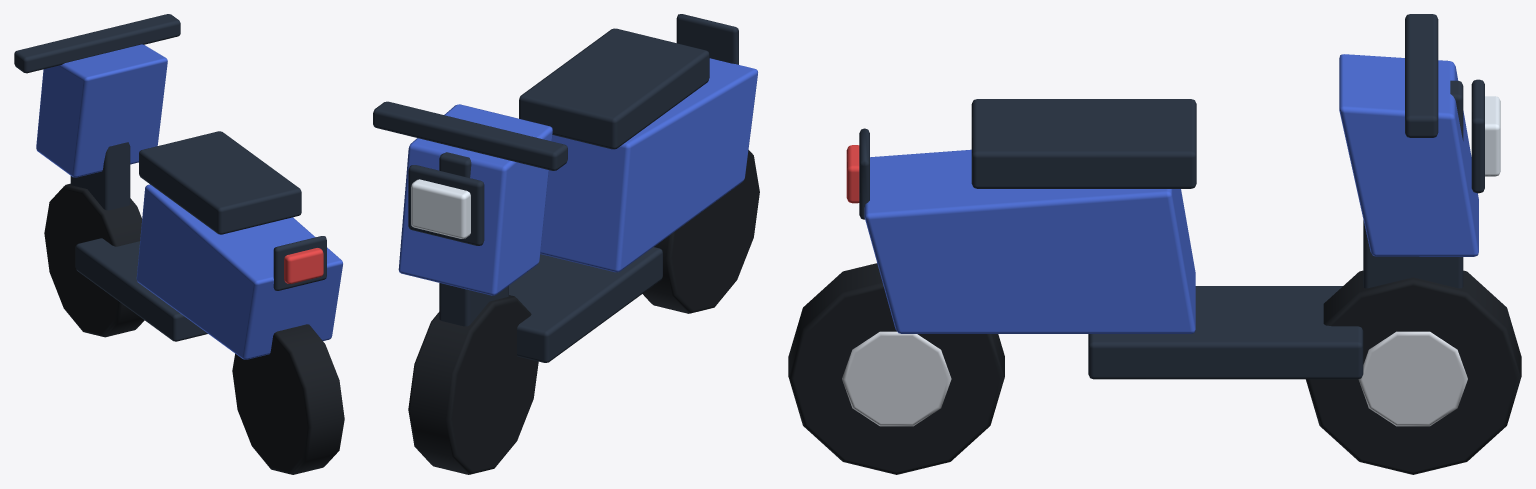
The model's file is veh_scooter_01.glb.
The picture shows the model from 3 angles, left to right: view 1: azimuth 30°, elevation 25°; view 2: azimuth 150°, elevation 25°; view 3: azimuth 270°, elevation 25°; orthographic projection. The views are drawn at different scales.
Visible parts, largest first — view 1: VEH_SCOOTER_01_ROOT; view 2: VEH_SCOOTER_01_ROOT; view 3: VEH_SCOOTER_01_ROOT.
Part boxes in pixels (left/top/right/bottom): VEH_SCOOTER_01_ROOT: left=14, top=14, right=344, bottom=474; VEH_SCOOTER_01_ROOT: left=373, top=14, right=759, bottom=474; VEH_SCOOTER_01_ROOT: left=788, top=14, right=1521, bottom=474.
Size of what is drawn, in the model's own units: 0.6 by 1.06 by 1.76.
